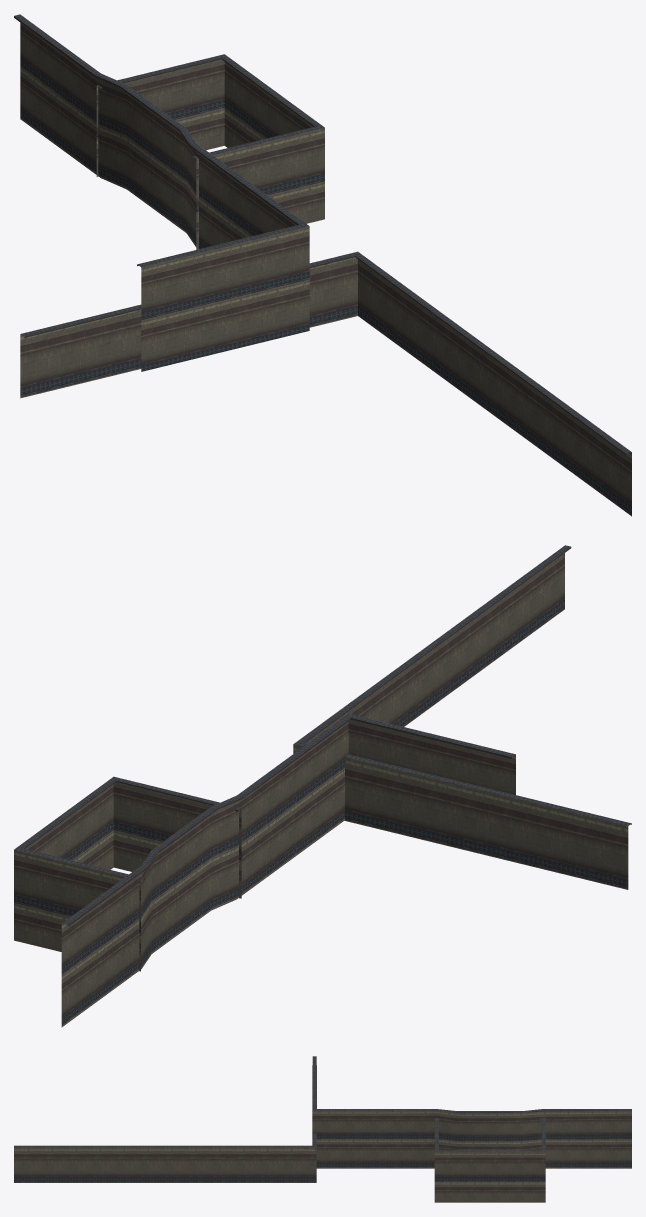
Rendered from dcfx2_qianmian_01.FBX.
3 renders of one model, top to bottom at view 1: azimuth 30°, elevation 25°; view 2: azimuth 150°, elevation 25°; view 3: azimuth 270°, elevation 25°, orthographic. The views are drawn at different scales.
Visible parts, largest first — view 1: dcfx2_qianmian_01; view 2: dcfx2_qianmian_01; view 3: dcfx2_qianmian_01.
Part boxes in pixels (<box>): dcfx2_qianmian_01: <box>14,14,631,516</box>; dcfx2_qianmian_01: <box>14,545,631,1027</box>; dcfx2_qianmian_01: <box>14,1056,631,1202</box>.
Size of the model in its own units: 3390 by 829 by 7982.
